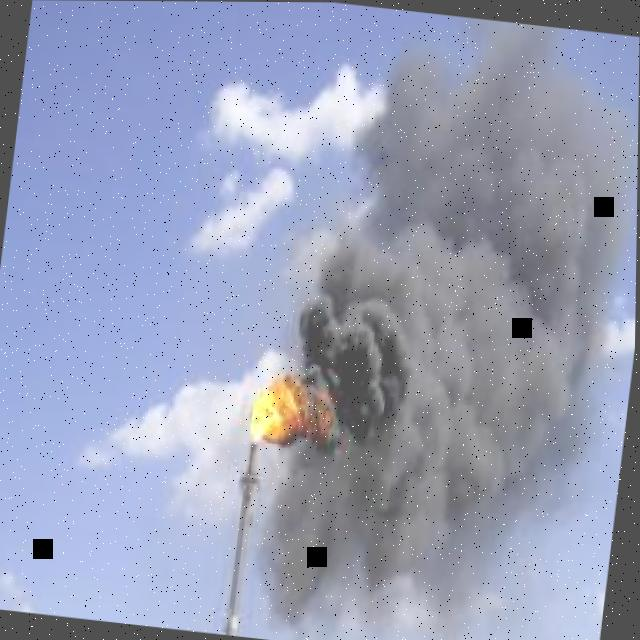fire: (250, 372, 333, 449)
smoke: (254, 16, 638, 640)
